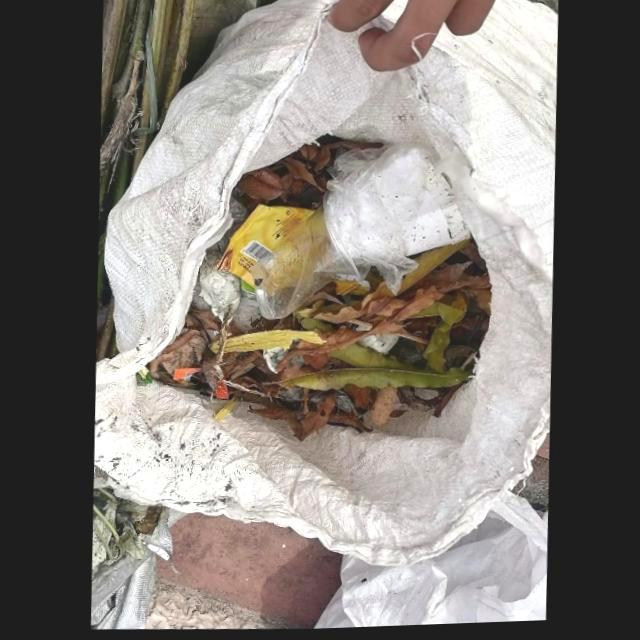food_wrapper: (250, 202, 370, 321), (215, 206, 314, 290)
